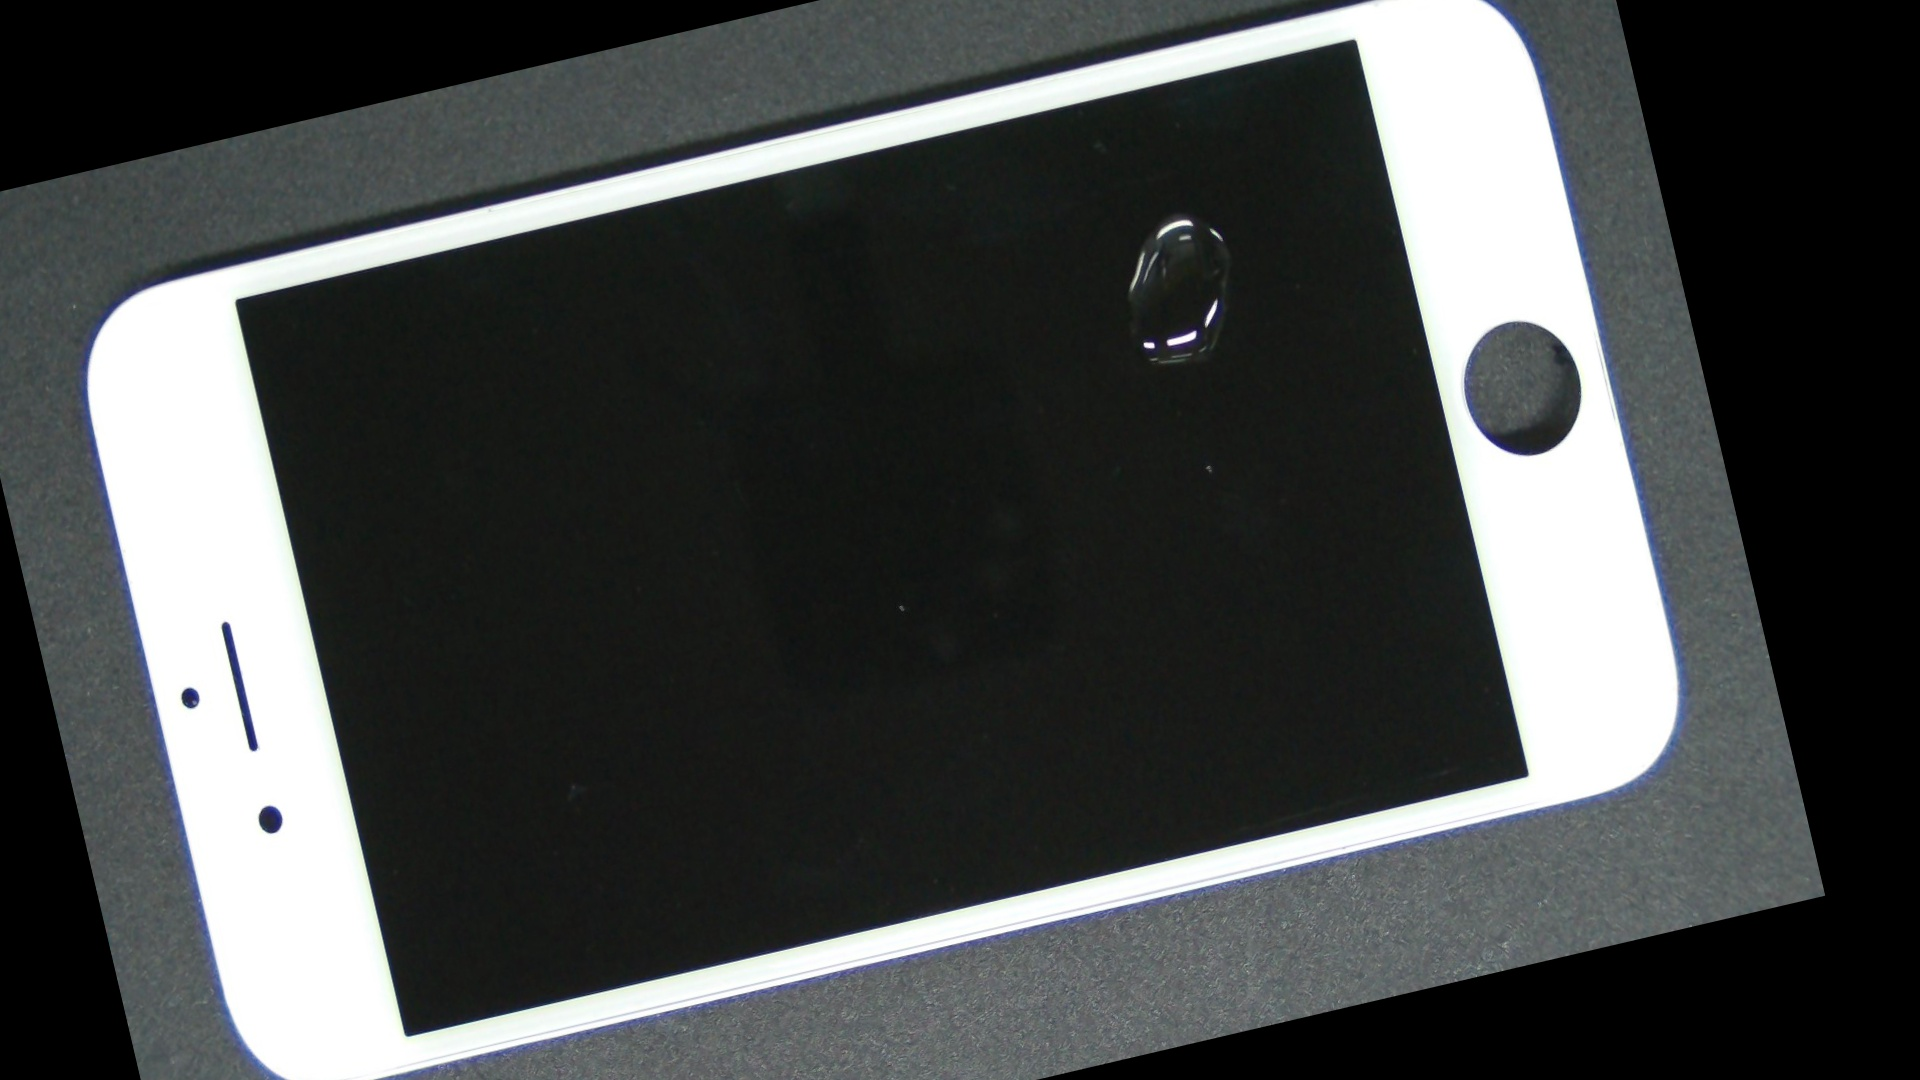oil: (554, 0, 1673, 493)
